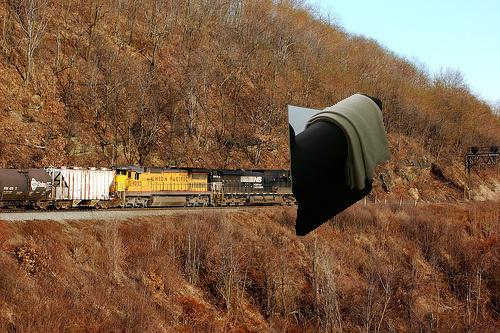tampered: (288, 93, 391, 236)
